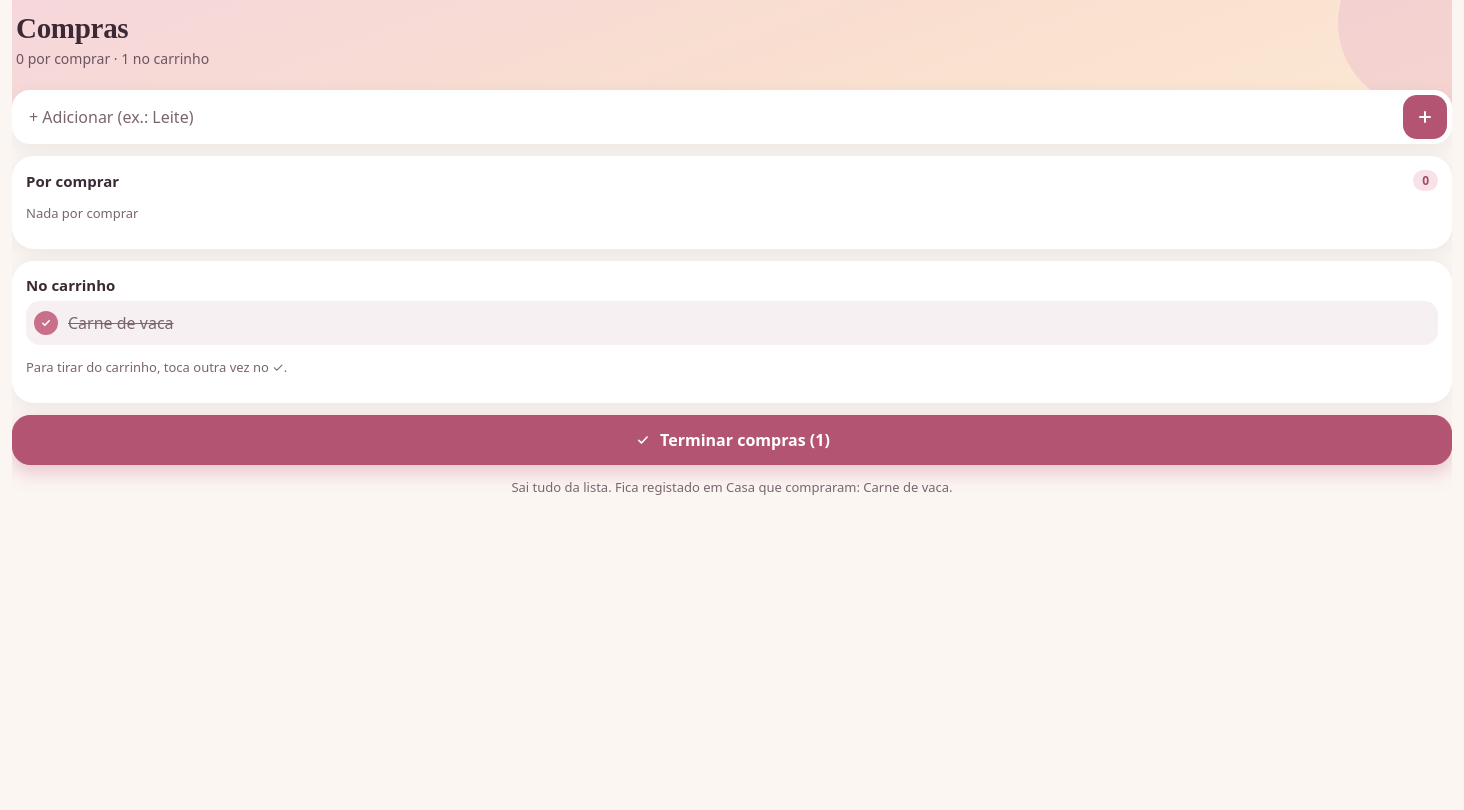
Desfazer after saving the freezer card also deletes the new bags
The width and height of the screenshot is (1464, 810).
Click the button "Terminar compras (1)" at (732, 440), box [12,415,1452,465]
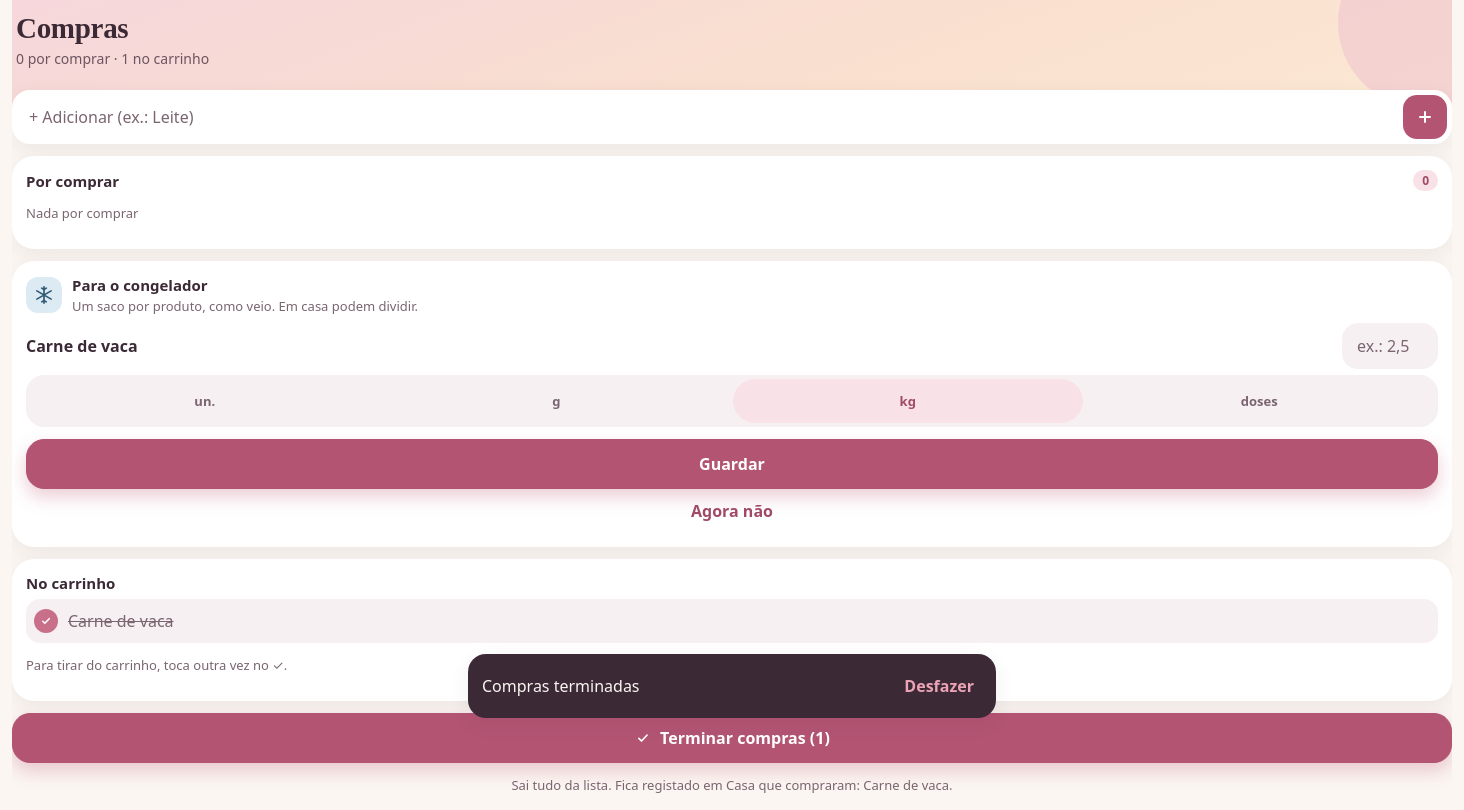
Type "5" into the field named "Quantidade de Carne de vaca" at (1390, 346), box [1342,323,1438,369]
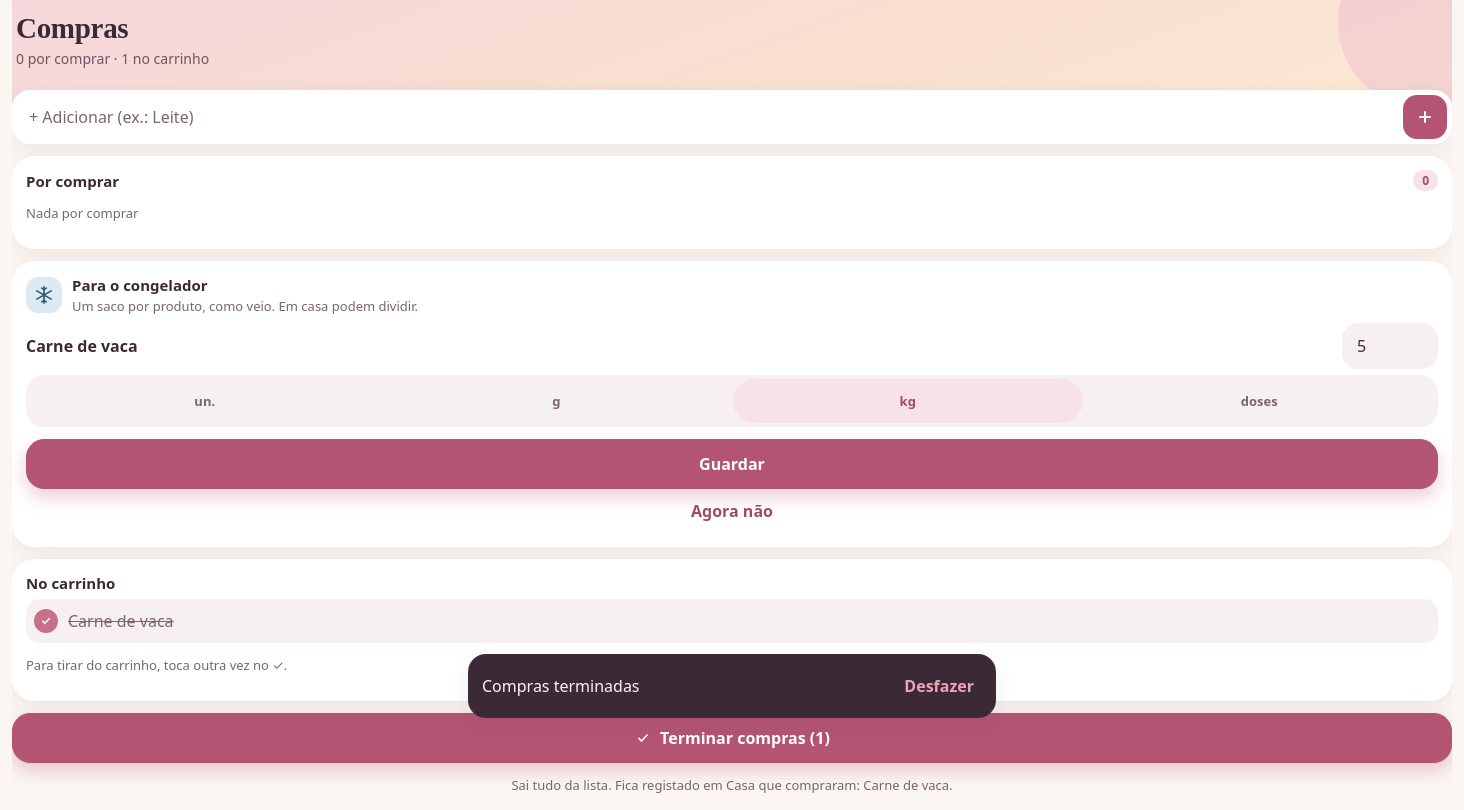
Click the button "Guardar" at (732, 464), box [26,439,1438,489]
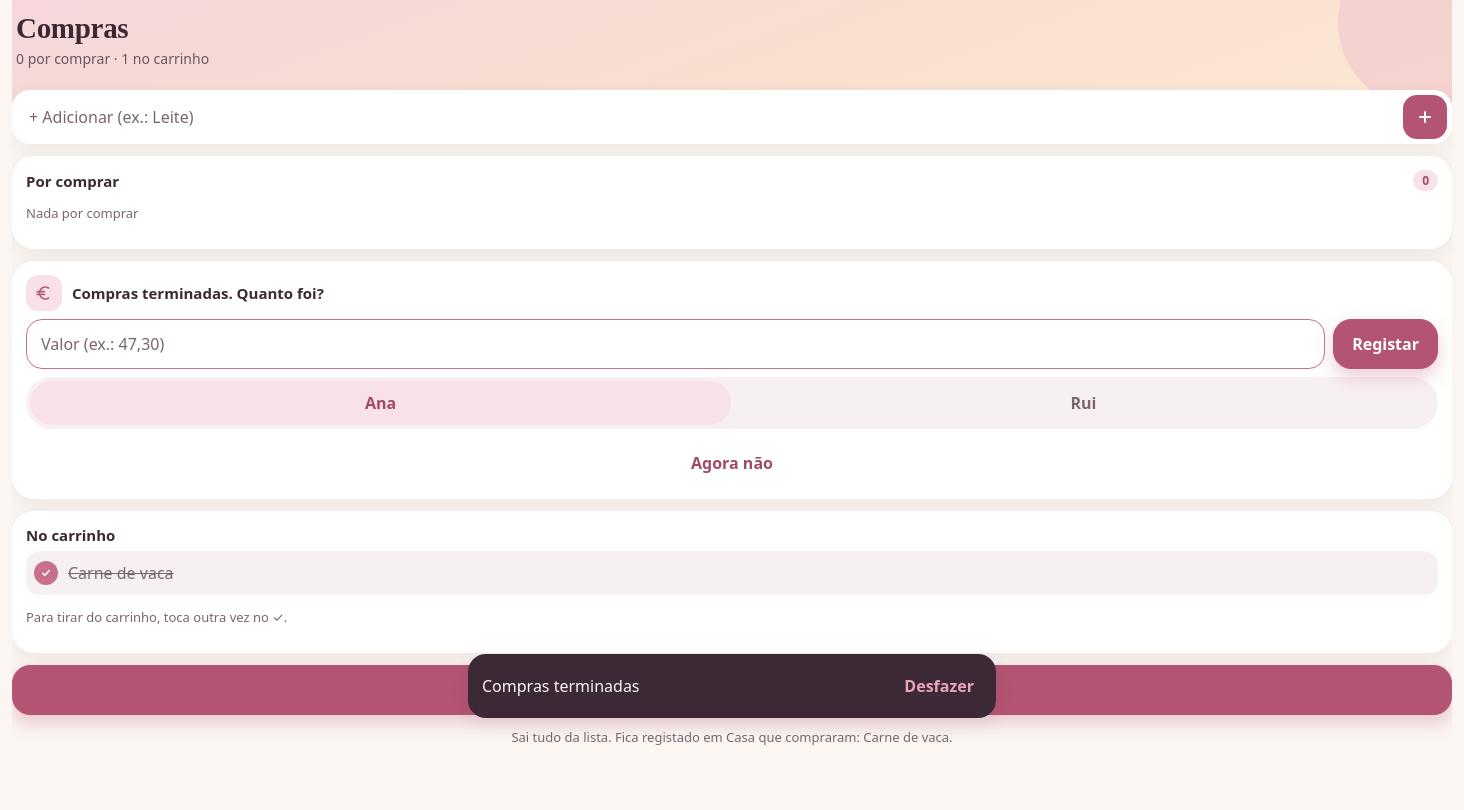
Click the button "Desfazer" at (939, 686), box [896,664,982,708]
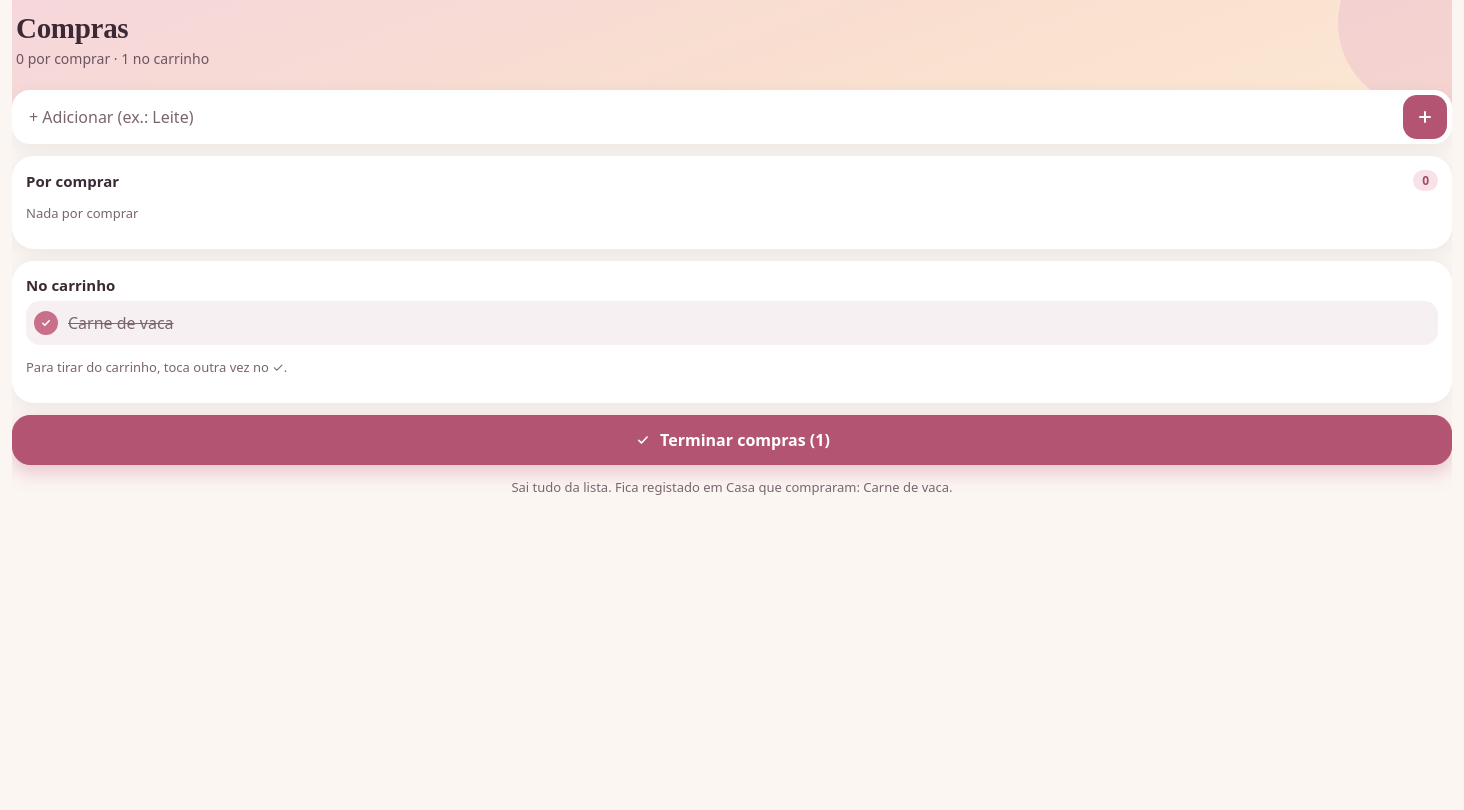
Expected: the heading "Quanto foi" is gone
